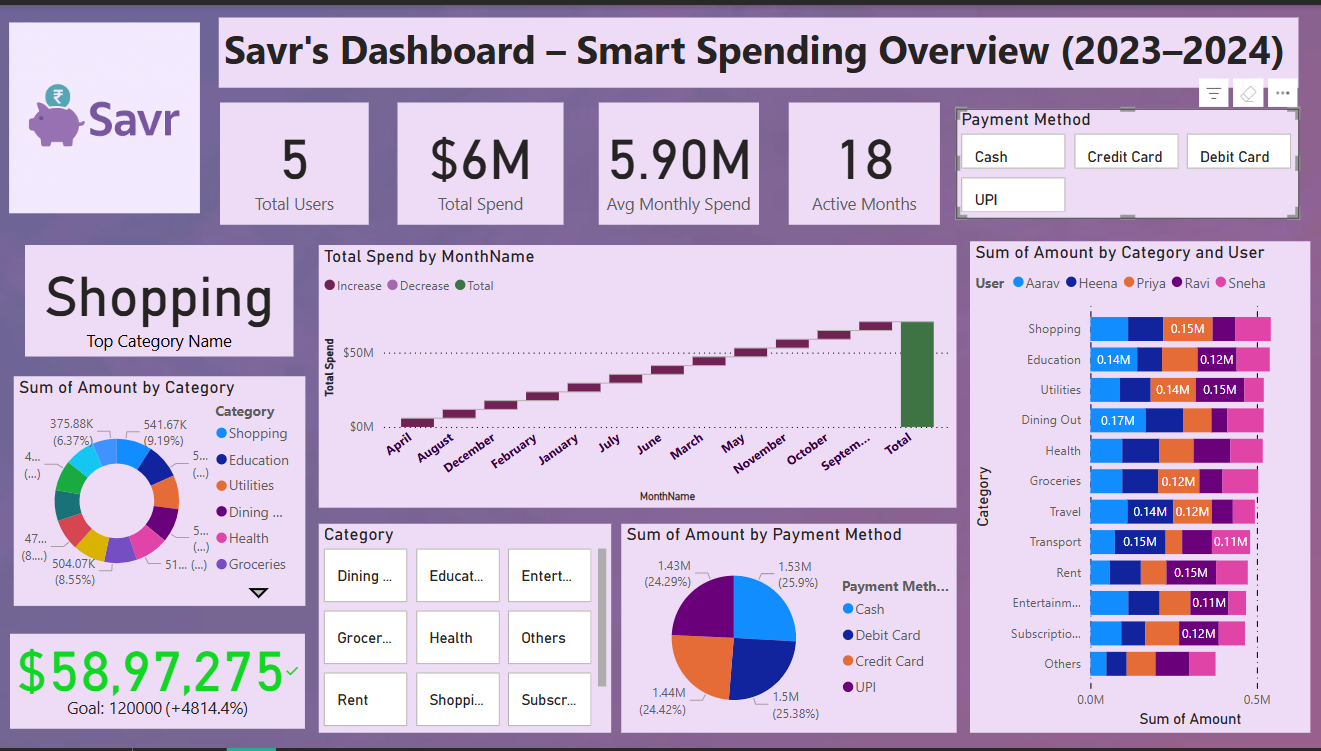

The dashboard page shown, as its layout file describes it:
{"tool":"powerbi","page":{"name":"Page 1","canvas":[1280,720],"ordinal":0},"visuals":[{"type":"textbox","box":[211.8,12.1,1045.9,67.8],"z":0},{"type":"card","fields":{"Values":["DateTable.Total Spend"]},"box":[384.9,94.4,161,118.6],"z":1000},{"type":"card","fields":{"Values":["DateTable.Total Users"]},"box":[213,94.4,144,118.6],"z":2000},{"type":"card","fields":{"Values":["DateTable.Avg Monthly Spend"]},"box":[579.8,94.4,154.9,118.6],"z":3000},{"type":"card","fields":{"Values":["DateTable.Active Months"]},"box":[763.8,94.4,146.5,118.6],"z":4000},{"type":"waterfallChart","fields":{"Category":["DateTable.MonthName"],"Y":["DateTable.Total Spend"]},"box":[308.7,232.4,617.4,254.2],"z":5000},{"type":"donutChart","fields":{"Category":["Transactional_Budget_Tracker_dataset_5users.Category"],"Y":["Transactional_Budget_Tracker_dataset_5users.Amount"]},"box":[13.3,359.5,282,222.7],"z":6000},{"type":"barChart","fields":{"Category":["Transactional_Budget_Tracker_dataset_5users.Category"],"Y":["Transactional_Budget_Tracker_dataset_5users.Amount"],"Series":["Transactional_Budget_Tracker_dataset_5users.User"]},"box":[939.3,228.8,329.3,475.7],"z":7000},{"type":"pieChart","fields":{"Y":["Transactional_Budget_Tracker_dataset_5users.Amount"],"Category":["Transactional_Budget_Tracker_dataset_5users.Payment Method"]},"box":[601.6,502.4,324.4,202.2],"z":8000},{"type":"card","fields":{"Values":["DateTable.Top Category Name"]},"box":[24.2,232.4,260.3,107.7],"z":9000},{"type":"advancedSlicerVisual","fields":{"Values":["Transactional_Budget_Tracker_dataset_5users.Payment Method"]},"box":[926,100.5,331.7,106.5],"z":10000},{"type":"kpi","fields":{"Indicator":["DateTable.Total Spend"],"TrendLine":["DateTable.MonthYear"],"Goal":["DateTable.Spend Goal"]},"box":[9.7,608.9,285.7,92],"z":11000},{"type":"advancedSlicerVisual","fields":{"Values":["Transactional_Budget_Tracker_dataset_5users.Category"]},"box":[308.7,502.4,283.3,202.2],"z":12000},{"type":"image","box":[0,12.1,202.2,194.9],"z":13000}]}

Visuals, with their boxes in screenshot pixels (x1, y1, x2, y2), scaled from the page's 1280x720 canvas onto the 1321x751 screenshot:
textbox: detection(219, 13, 1298, 83)
card - DateTable.Total Spend: detection(397, 98, 563, 222)
card - DateTable.Total Users: detection(220, 98, 368, 222)
card - DateTable.Avg Monthly Spend: detection(598, 98, 758, 222)
card - DateTable.Active Months: detection(788, 98, 939, 222)
waterfallChart - DateTable.MonthName x DateTable.Total Spend: detection(319, 242, 956, 508)
donutChart - Transactional_Budget_Tracker_dataset_5users.Category x Transactional_Budget_Tracker_dataset_5users.Amount: detection(14, 375, 305, 607)
barChart - Transactional_Budget_Tracker_dataset_5users.Category x Transactional_Budget_Tracker_dataset_5users.Amount: detection(969, 239, 1309, 735)
pieChart - Transactional_Budget_Tracker_dataset_5users.Amount x Transactional_Budget_Tracker_dataset_5users.Payment Method: detection(621, 524, 956, 735)
card - DateTable.Top Category Name: detection(25, 242, 294, 355)
advancedSlicerVisual - Transactional_Budget_Tracker_dataset_5users.Payment Method: detection(956, 105, 1298, 216)
kpi - DateTable.Total Spend x DateTable.MonthYear: detection(10, 635, 305, 731)
advancedSlicerVisual - Transactional_Budget_Tracker_dataset_5users.Category: detection(319, 524, 611, 735)
image: detection(0, 13, 209, 216)
